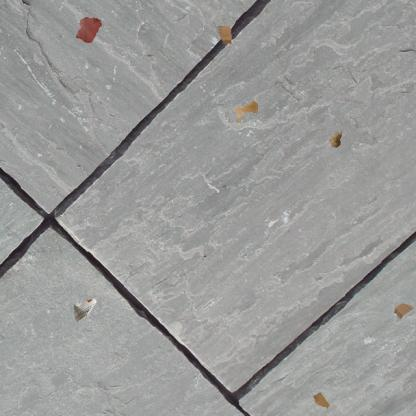dirty: (71, 296, 98, 323), (310, 390, 332, 412), (392, 301, 415, 322), (215, 22, 233, 46), (327, 129, 345, 151)
liquid: (75, 15, 103, 44), (233, 101, 258, 123)
